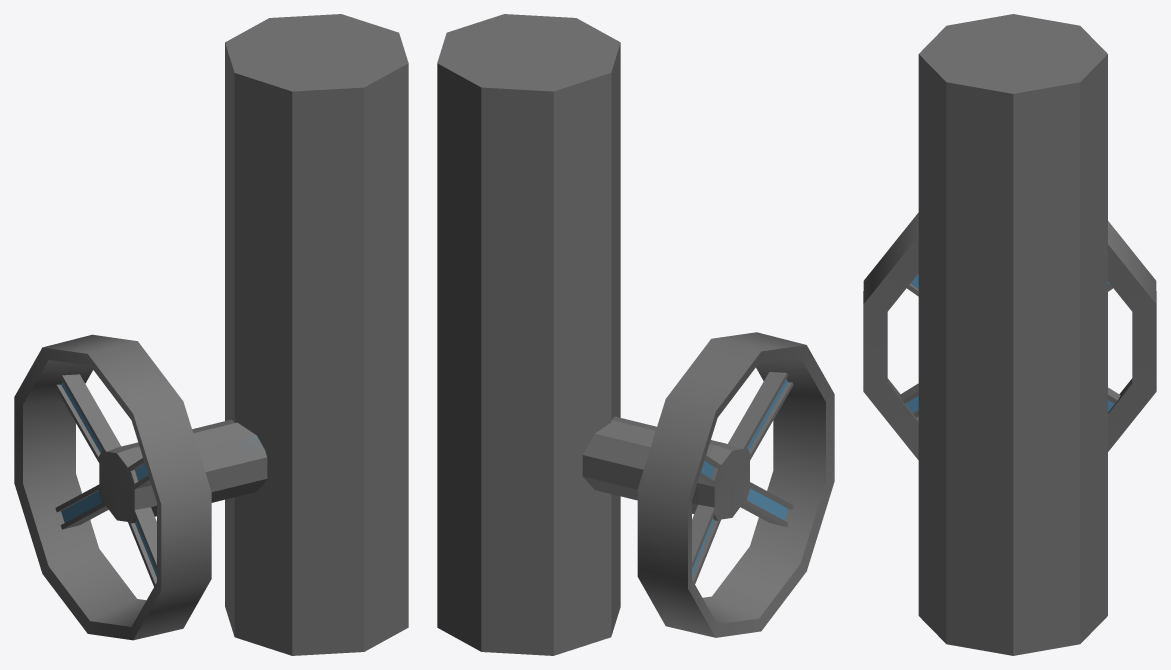
The picture shows the model from 3 angles, left to right: view 1: azimuth 30°, elevation 25°; view 2: azimuth 150°, elevation 25°; view 3: azimuth 270°, elevation 25°; orthographic projection.
Parts seen in each view (by area): view 1: SM_B_Part21; view 2: SM_B_Part21; view 3: SM_B_Part21.
Part boxes in pixels (bbox=[...]): SM_B_Part21: bbox=[14, 14, 408, 655]; SM_B_Part21: bbox=[437, 14, 834, 655]; SM_B_Part21: bbox=[863, 14, 1156, 655].
Size of the model in its own units: 112 by 91.62 by 193.
Materials: 1 (1 with a texture image).
